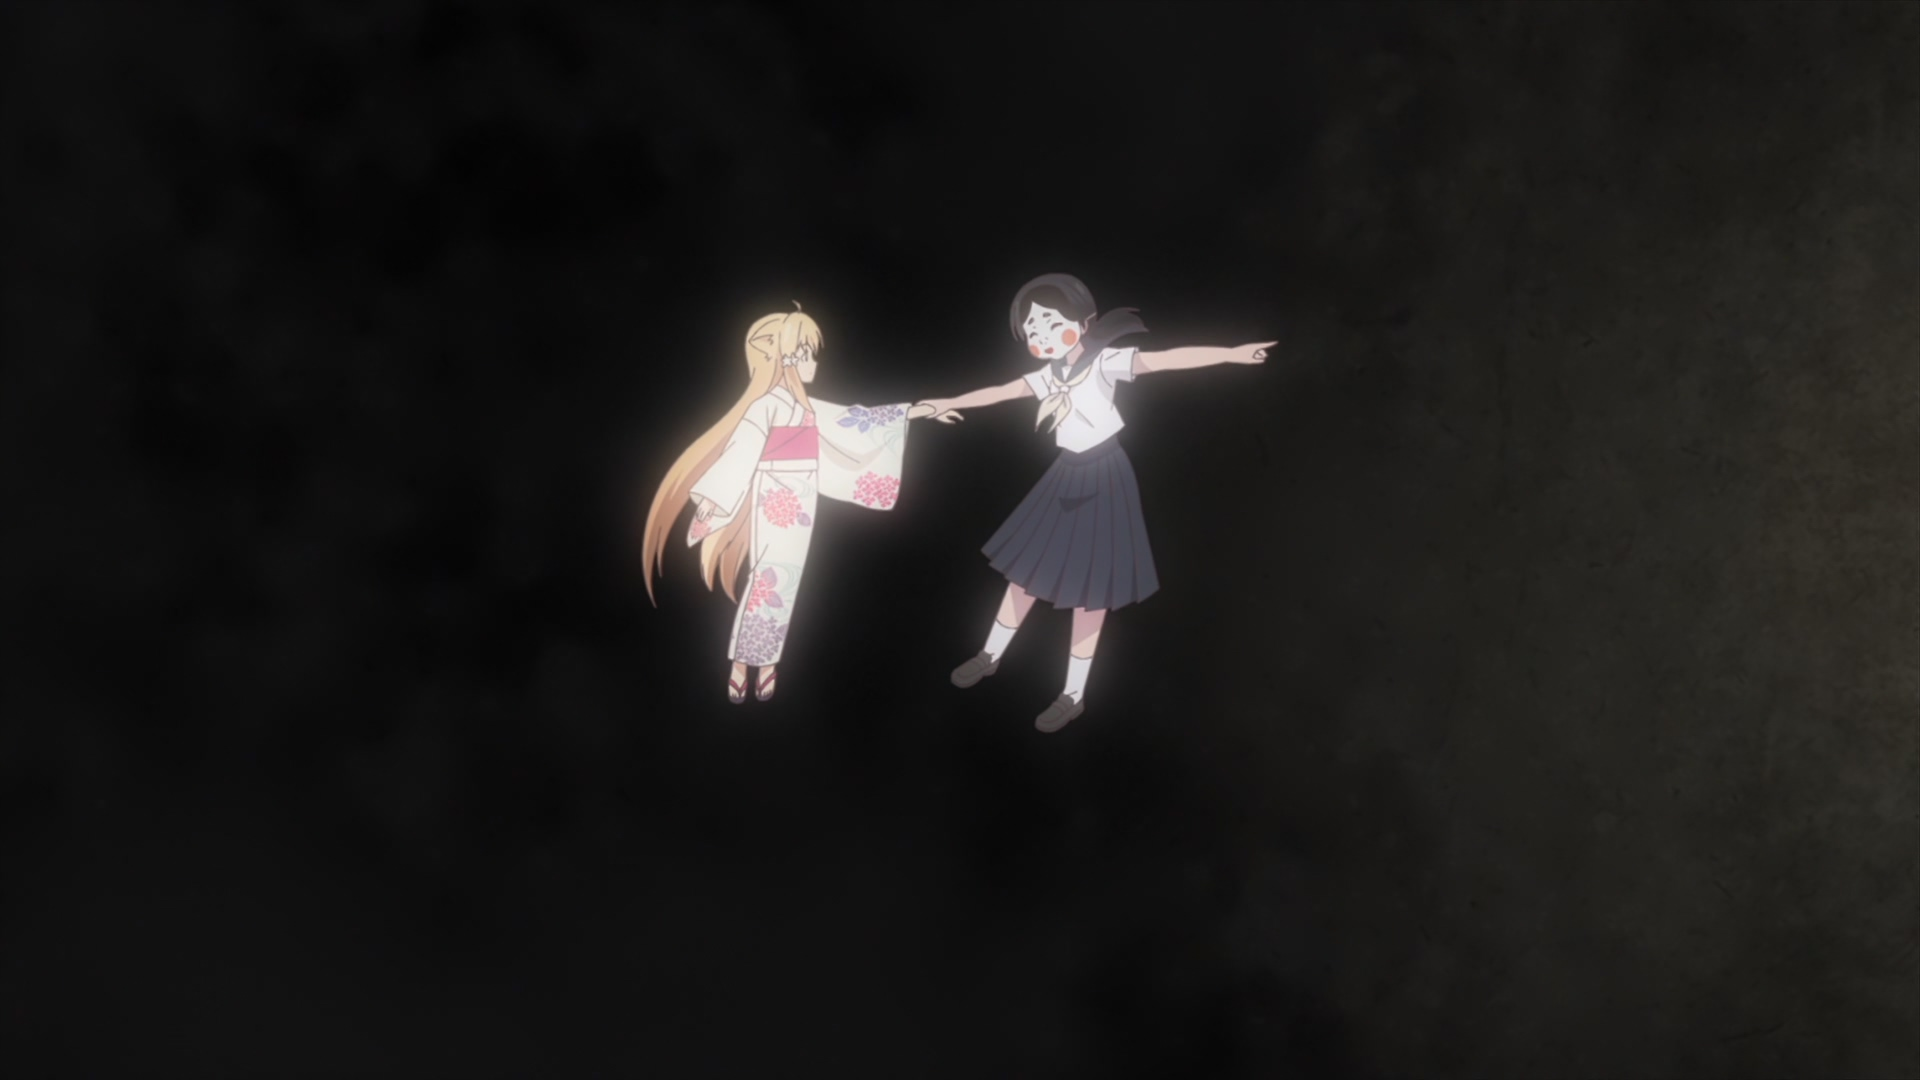其他: (918, 276, 1273, 735)
柚: (645, 303, 963, 707)
